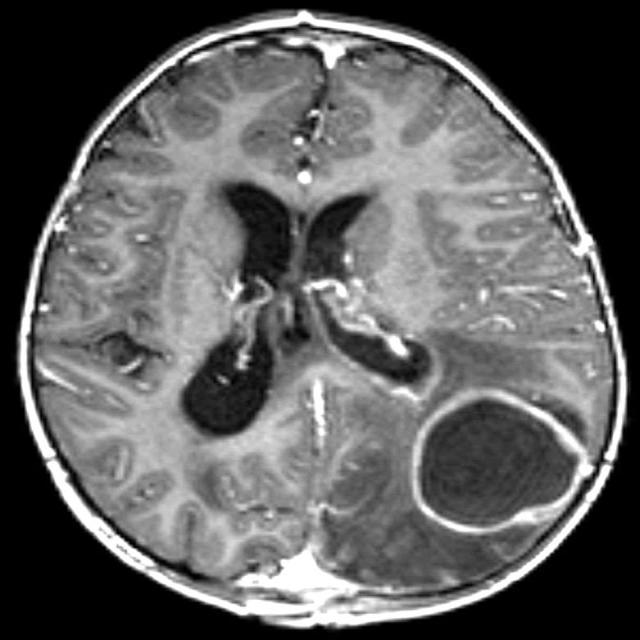Tumor: (407, 388, 595, 540)
